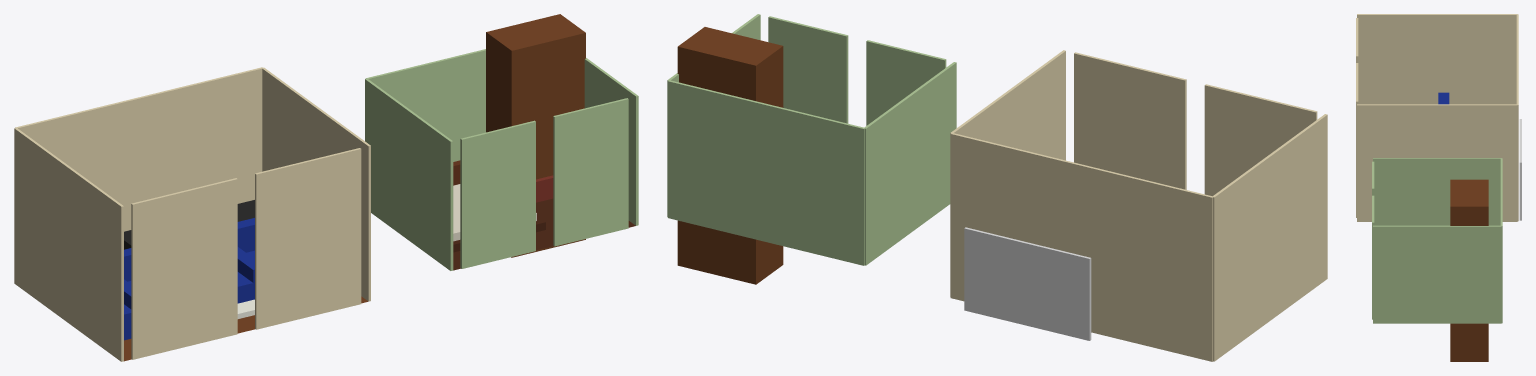
File: boq_professional_28cd096c-ae48-4665-98b1-6eb93a2ef688.obj
3 views of the same model, side by side, from view 1: azimuth 30°, elevation 25°; view 2: azimuth 150°, elevation 25°; view 3: azimuth 270°, elevation 25° (orthographic). The views are drawn at different scales.
Visible parts, largest first — view 1: BackWall_modern_living_room, LeftWall_modern_living_room, FrontWallLeft_modern_living_room, FrontWallRight_modern_living_room, LeftWall_master_bedroom, Wardrobe_master_bedroom, FrontWallLeft_master_bedroom, FrontWallRight_master_bedroom, RightWall_modern_living_room, BackWall_master_bedroom, RightWall_master_bedroom, Floor_master_bedroom (+2 smaller); view 2: BackWall_modern_living_room, BackWall_master_bedroom, LeftWall_modern_living_room, LeftWall_master_bedroom, FrontWallRight_modern_living_room, Wardrobe_master_bedroom, TVScreen_modern_living_room, FrontWallLeft_modern_living_room, RightWall_modern_living_room, FrontWallRight_master_bedroom, FrontWallLeft_master_bedroom, RightWall_master_bedroom; view 3: LeftWall_modern_living_room, RightWall_master_bedroom, RightWall_modern_living_room, LeftWall_master_bedroom, Wardrobe_master_bedroom, BackWall_modern_living_room, BackWall_master_bedroom, TVScreen_modern_living_room, FrontWallRight_modern_living_room, FrontWallRight_master_bedroom, SofaBackrest_modern_living_room.
Part boxes in pixels (x1,y1,x2,y2): BackWall_modern_living_room: (15, 67, 262, 231); LeftWall_modern_living_room: (14, 128, 123, 361); FrontWallLeft_modern_living_room: (131, 178, 237, 359); FrontWallRight_modern_living_room: (255, 148, 361, 329); LeftWall_master_bedroom: (365, 78, 453, 270); Wardrobe_master_bedroom: (486, 14, 585, 257); FrontWallLeft_master_bedroom: (460, 120, 535, 268); FrontWallRight_master_bedroom: (553, 98, 628, 246); RightWall_modern_living_room: (262, 67, 370, 301); BackWall_master_bedroom: (365, 49, 485, 161); RightWall_master_bedroom: (584, 58, 638, 225); Floor_master_bedroom: (453, 198, 635, 270); BackWall_modern_living_room: (950, 133, 1212, 361); BackWall_master_bedroom: (668, 80, 864, 265); LeftWall_modern_living_room: (1212, 114, 1327, 361); LeftWall_master_bedroom: (864, 62, 956, 265); FrontWallRight_modern_living_room: (1074, 52, 1186, 189); Wardrobe_master_bedroom: (677, 27, 783, 284); TVScreen_modern_living_room: (964, 227, 1091, 340); FrontWallLeft_modern_living_room: (1204, 84, 1317, 196); RightWall_modern_living_room: (950, 50, 1065, 296); FrontWallRight_master_bedroom: (768, 16, 848, 123); FrontWallLeft_master_bedroom: (866, 40, 946, 125); RightWall_master_bedroom: (667, 14, 760, 217); LeftWall_modern_living_room: (1357, 14, 1517, 104); RightWall_master_bedroom: (1373, 225, 1501, 323); RightWall_modern_living_room: (1357, 104, 1517, 221); LeftWall_master_bedroom: (1373, 158, 1501, 225); Wardrobe_master_bedroom: (1450, 179, 1488, 361); BackWall_modern_living_room: (1516, 14, 1518, 221); BackWall_master_bedroom: (1500, 158, 1502, 323); TVScreen_modern_living_room: (1519, 119, 1521, 220); FrontWallRight_modern_living_room: (1356, 63, 1358, 217); FrontWallRight_master_bedroom: (1372, 195, 1374, 319); SofaBackrest_modern_living_room: (1438, 92, 1449, 104).
Size of the model in its own units: 42.7 by 16 by 15.5.
